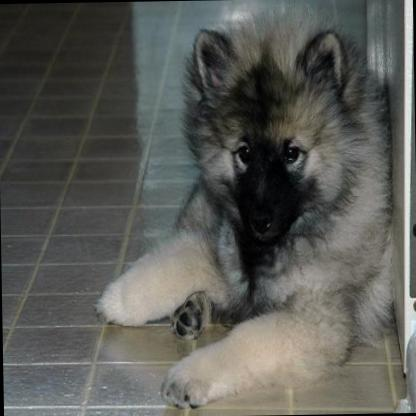keeshond: (86, 17, 396, 416)
